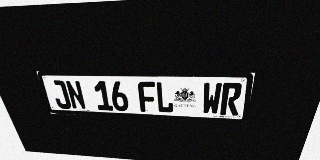1: (92, 81, 113, 111)
6: (109, 81, 129, 111)
F: (137, 81, 157, 112)
J: (49, 80, 72, 109)
L: (155, 82, 174, 113)
N: (64, 80, 87, 110)
R: (220, 83, 243, 116)
W: (202, 82, 222, 115)
